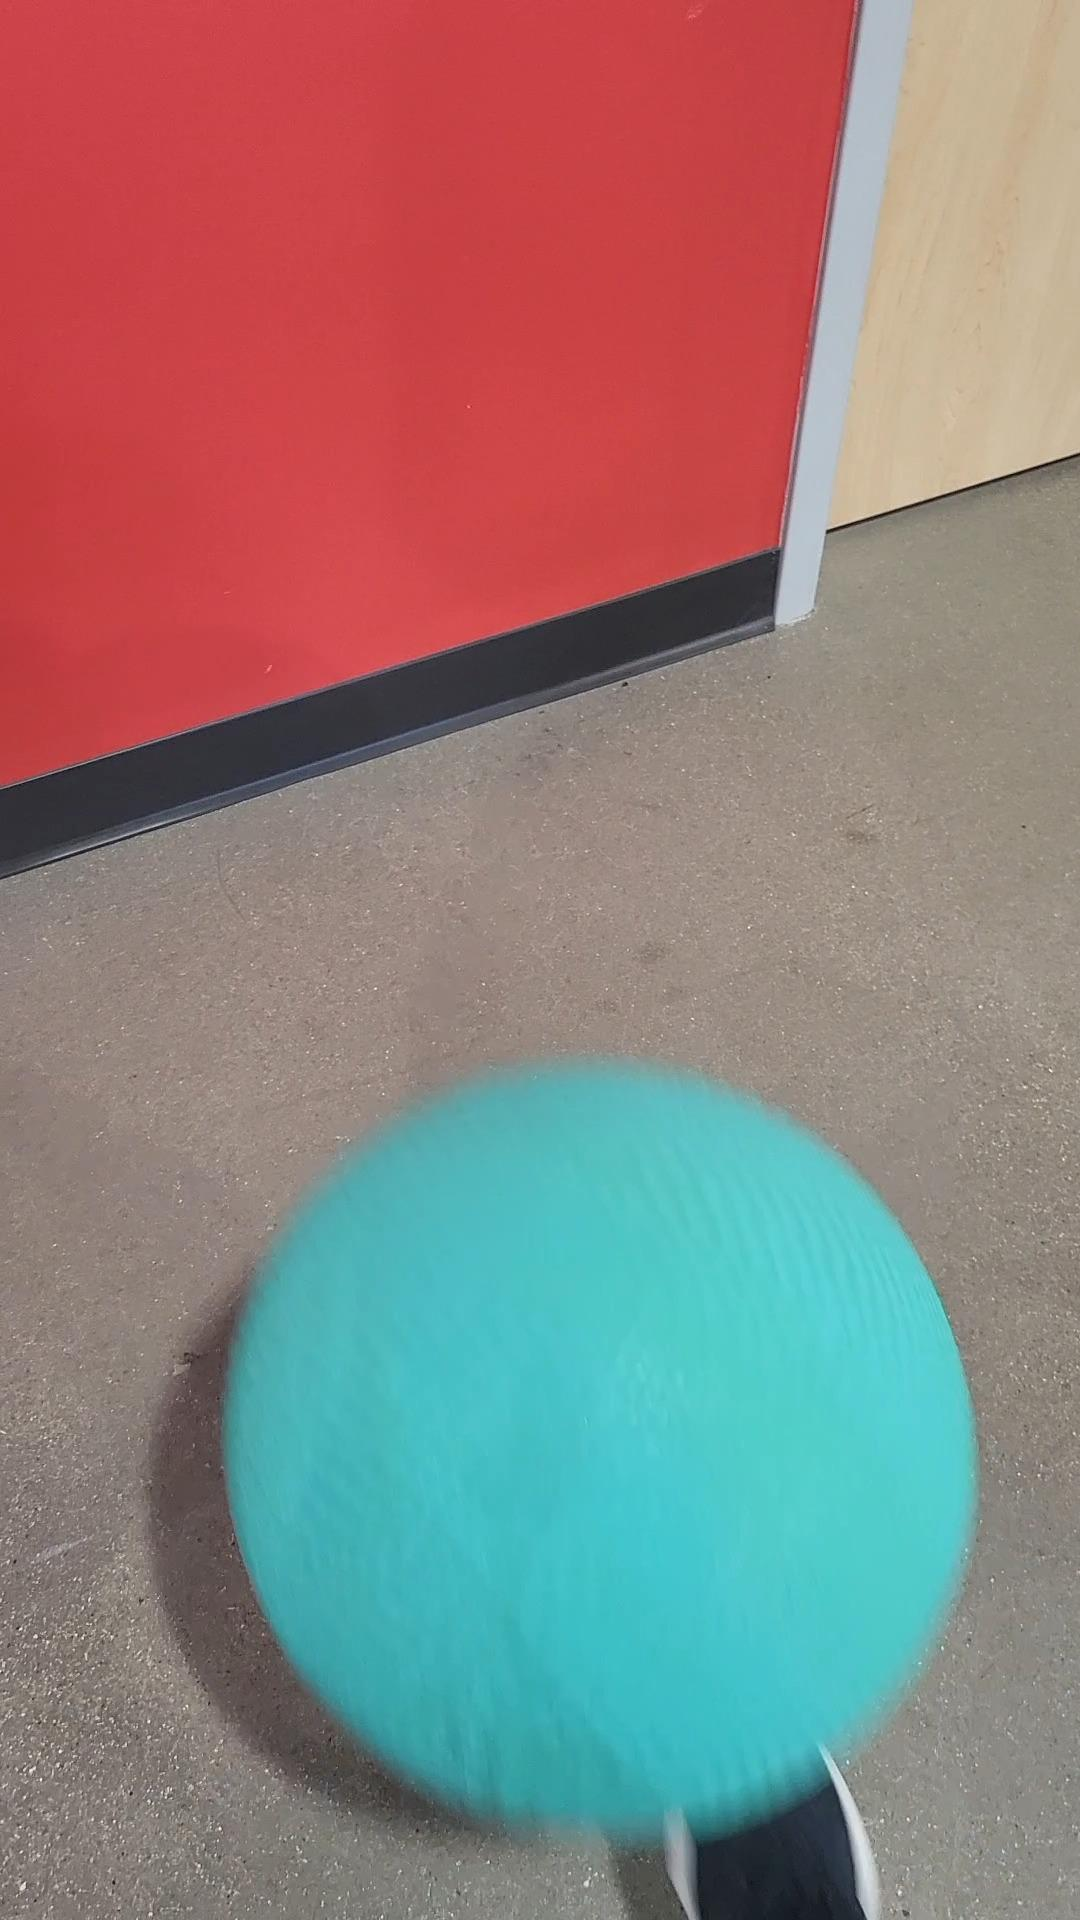algae: (222, 1081, 975, 1809)
